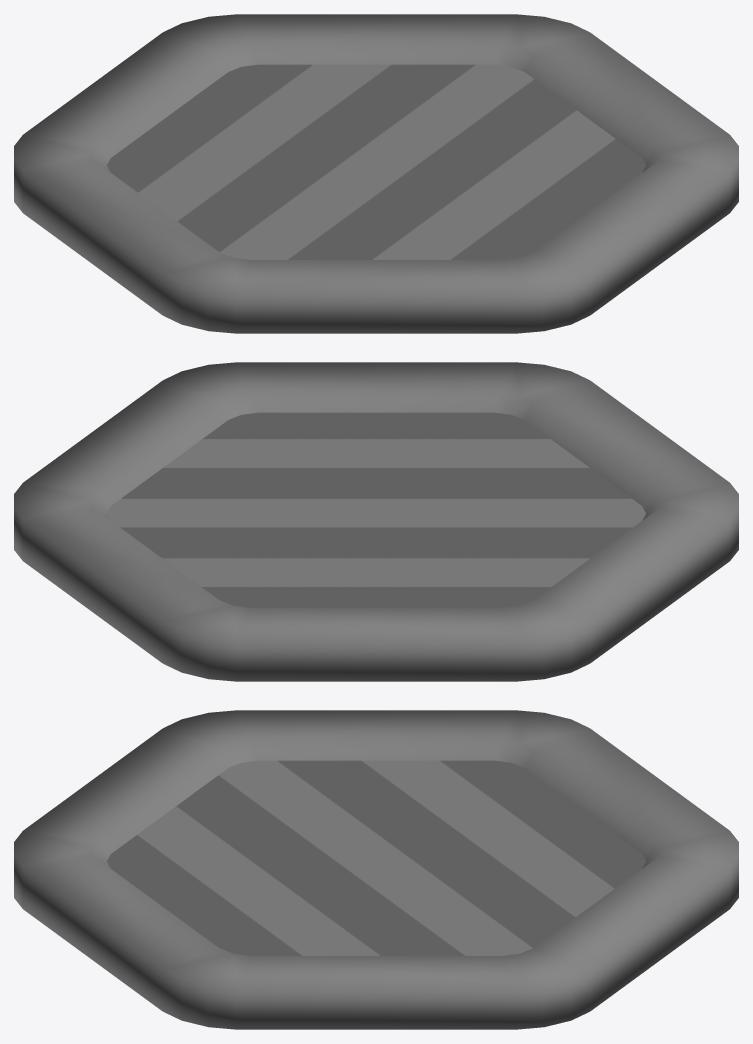
Rendered from Chip.fbx.
3 renders of one model, top to bottom at view 1: azimuth 30°, elevation 25°; view 2: azimuth 150°, elevation 25°; view 3: azimuth 270°, elevation 25°, orthographic.
Parts seen in each view (by area): view 1: chip_low; view 2: chip_low; view 3: chip_low.
Boxes of the visible parts, box(x1,y1,x2,y2) form: chip_low: box(14, 14, 738, 333); chip_low: box(14, 362, 738, 681); chip_low: box(14, 710, 738, 1029).
Bounding box in the file's own units: 173 × 12.43 × 192.
